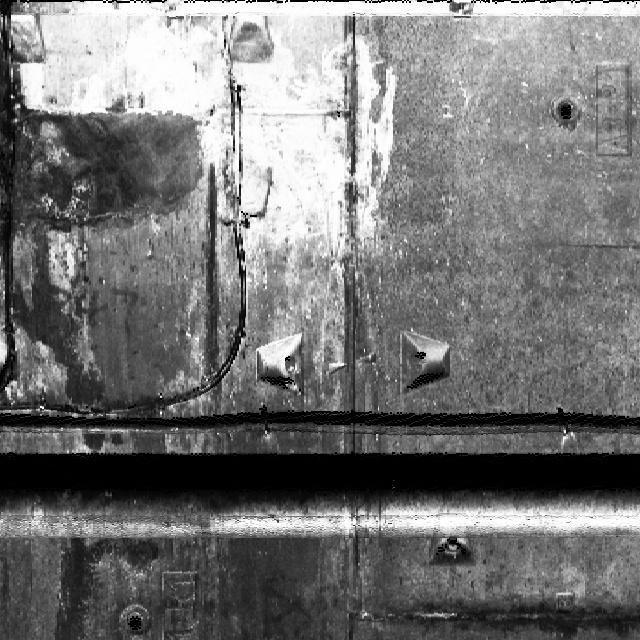leakage: (2, 1, 204, 448), (49, 520, 158, 639), (378, 590, 639, 639), (195, 163, 237, 425)
